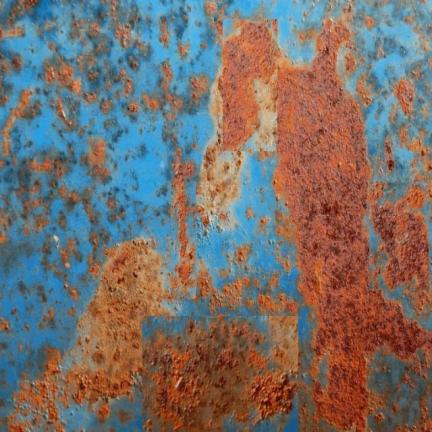karat: (275, 21, 431, 431), (142, 315, 298, 431), (71, 238, 169, 397), (220, 20, 278, 151)
